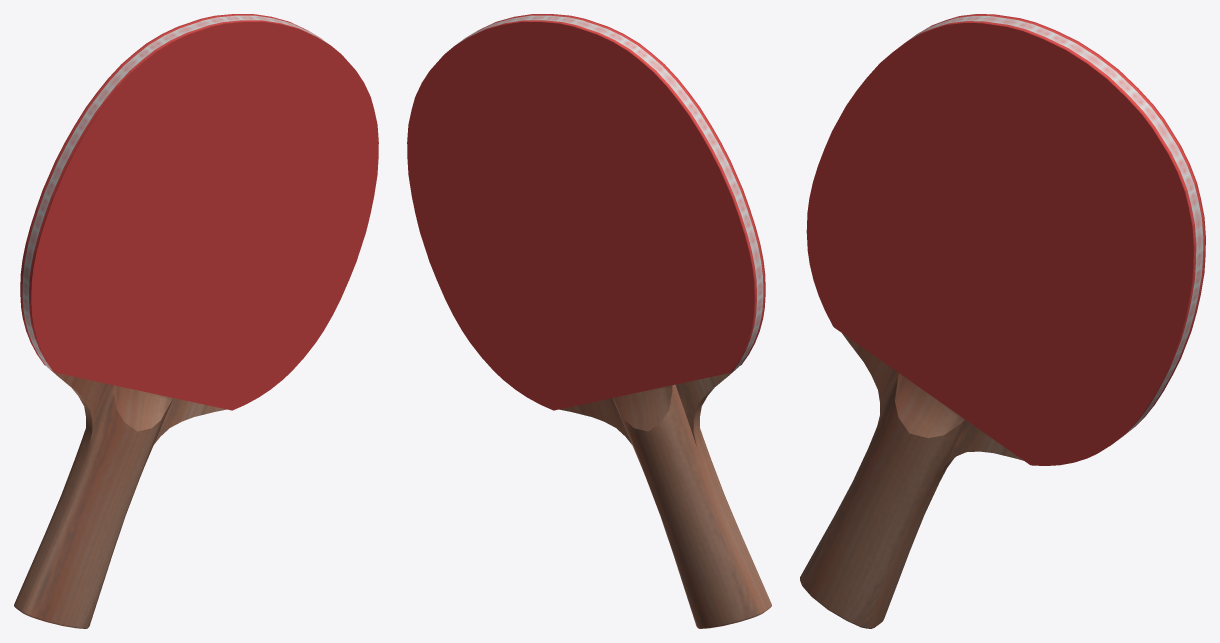
Rendered from raquete.glb.
The picture shows the model from 3 angles, left to right: view 1: azimuth 30°, elevation 25°; view 2: azimuth 150°, elevation 25°; view 3: azimuth 330°, elevation 25°; orthographic projection. The views are drawn at different scales.
Parts seen in each view (by area): view 1: PaddleObj; view 2: PaddleObj; view 3: PaddleObj.
Part boxes in pixels (x1,y1,x2,y2): PaddleObj: (14,14,378,628); PaddleObj: (407,14,771,628); PaddleObj: (800,14,1205,628).
Size of the model in its own units: 6.27 by 9.65 by 0.7656.
Materials: 5 (3 with a texture image).
